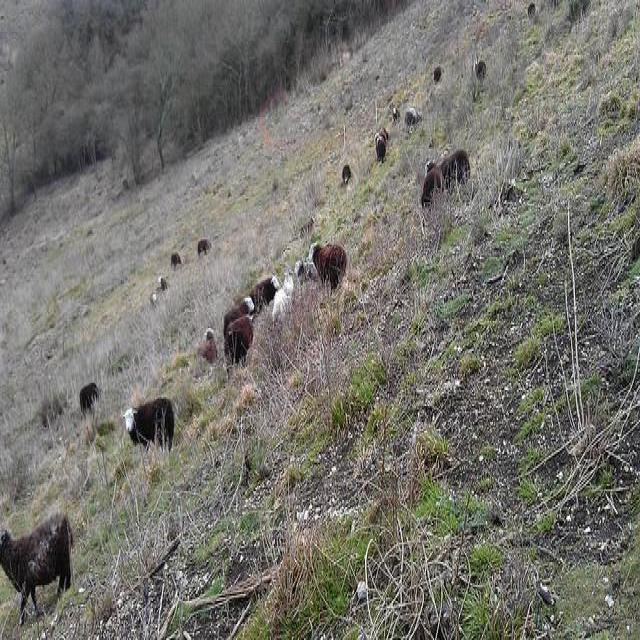Sheep: (147, 52, 490, 308), (0, 512, 75, 630)
